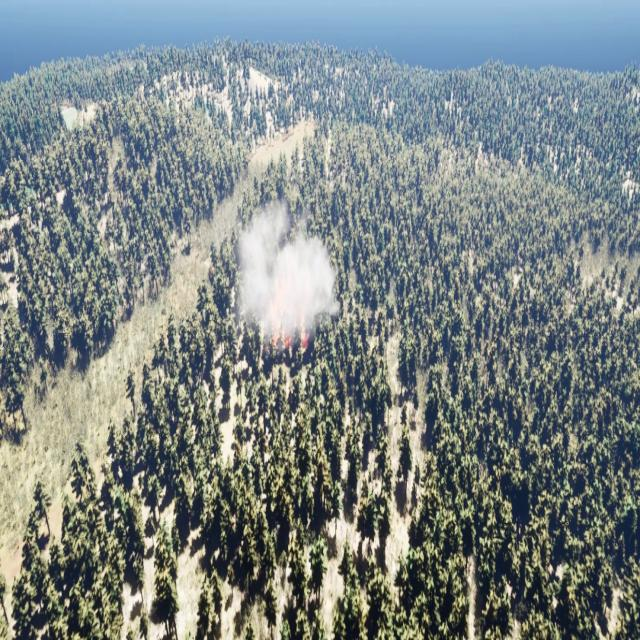smoke: (229, 196, 335, 349)
